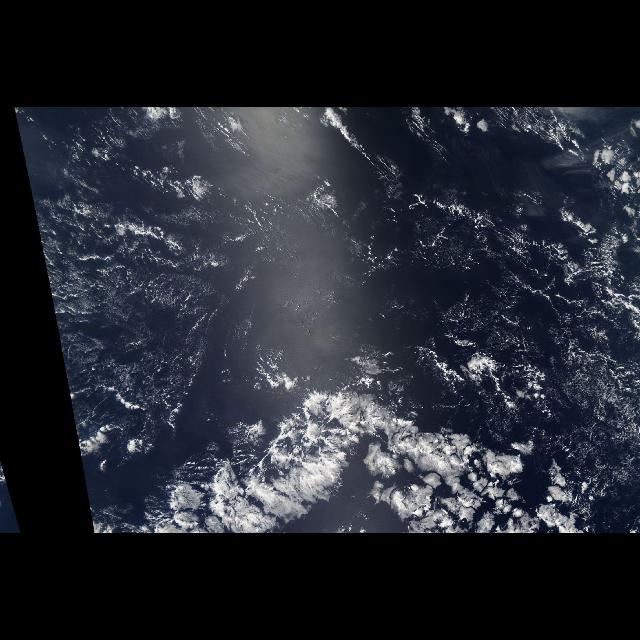Fish: (160, 394, 388, 530)
Flower: (363, 413, 541, 525)
Gravel: (356, 162, 640, 390), (35, 213, 234, 451)
Sugar: (40, 197, 636, 397)
